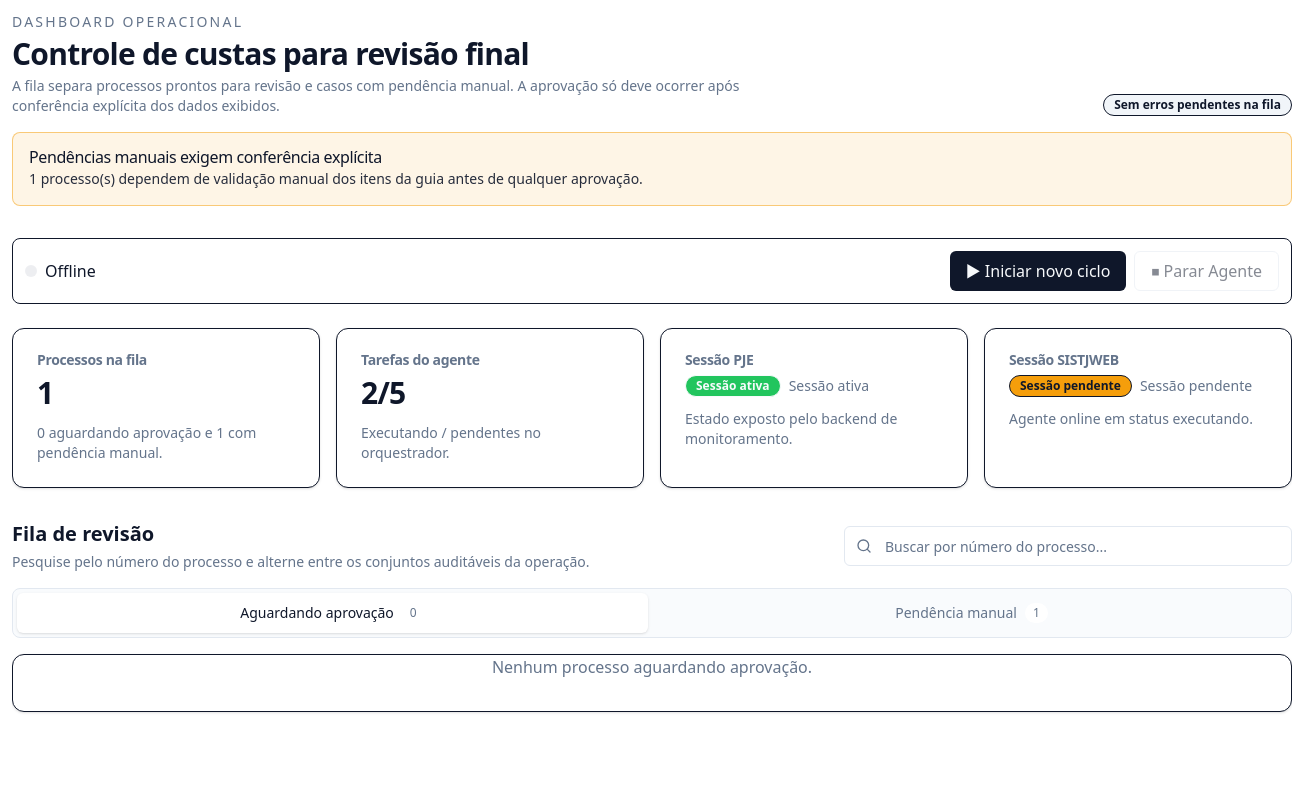
Test: Fila › lista processos pendentes manuais na aba correspondente
What coordinates should you click on to do the following:
click the tab "Pendência manual 1"
I would click on:
 (972, 613)
Its box is x1=656 y1=593 x2=1287 y2=633.
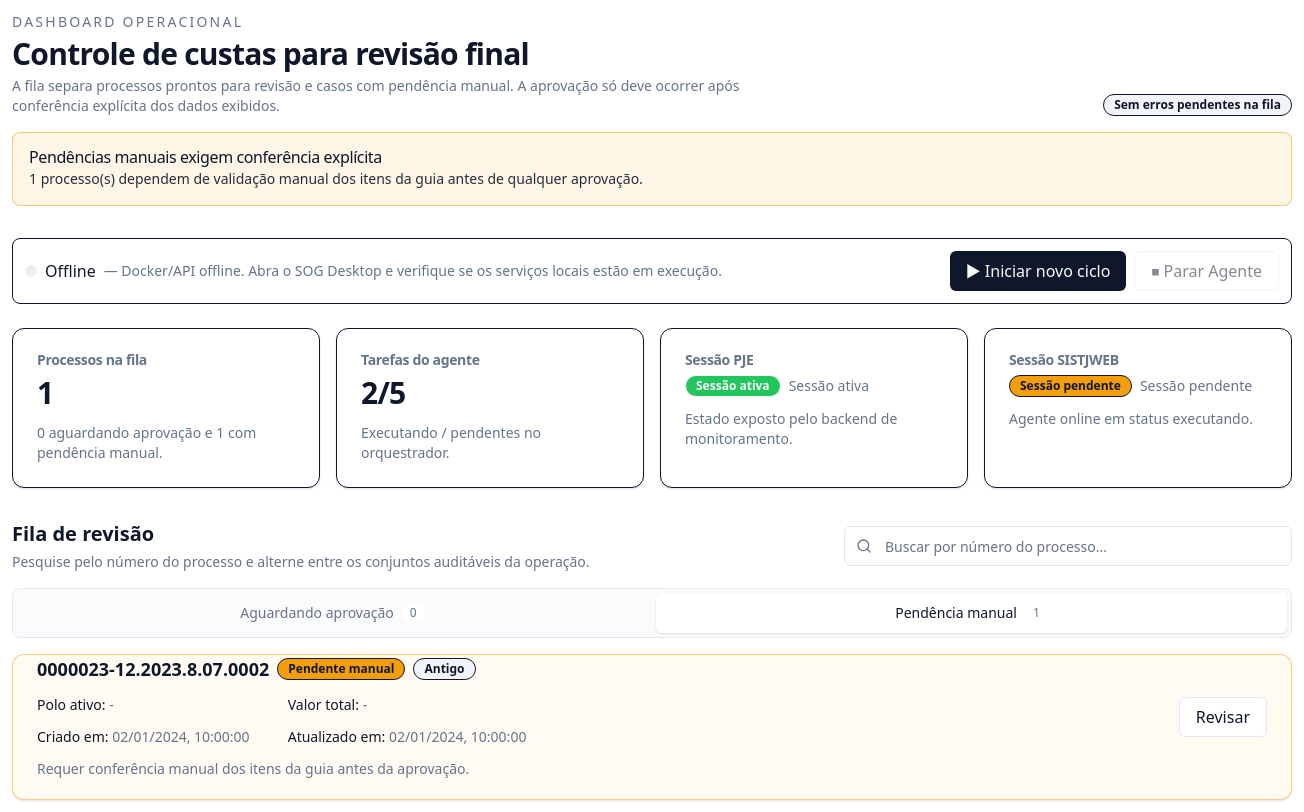
Now the text "0000023-12.2023.8.07.0002" is shown, box x1=37 y1=655 x2=269 y2=683
Now the text "Pendente manual" is shown, box x1=277 y1=658 x2=406 y2=680
